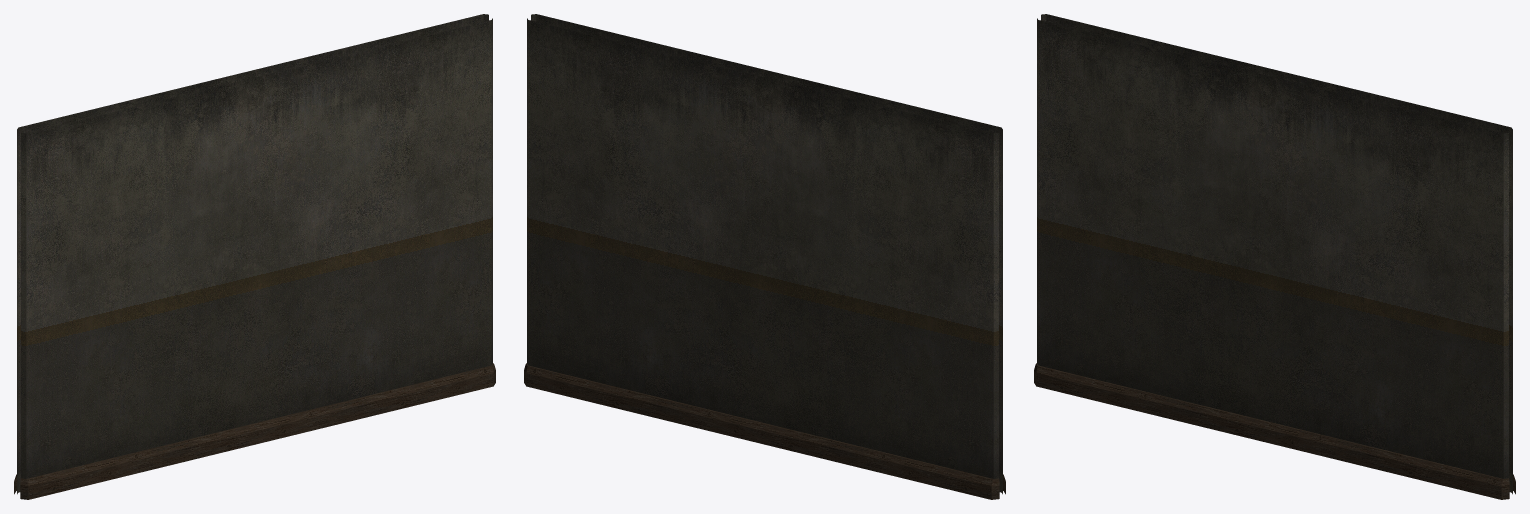
The model's file is wall_1.glb.
3 renders of one model, left to right at view 1: azimuth 30°, elevation 25°; view 2: azimuth 150°, elevation 25°; view 3: azimuth 330°, elevation 25°, orthographic.
Visible parts, largest first — view 1: wall_1; view 2: wall_1; view 3: wall_1.
Part boxes in pixels (x1,y1,x2,y2): wall_1: [14, 14, 495, 499]; wall_1: [524, 14, 1005, 499]; wall_1: [1034, 14, 1515, 499].
Size of the model in its own units: 4.09 by 3 by 0.18.
2 materials, 2 textured.
